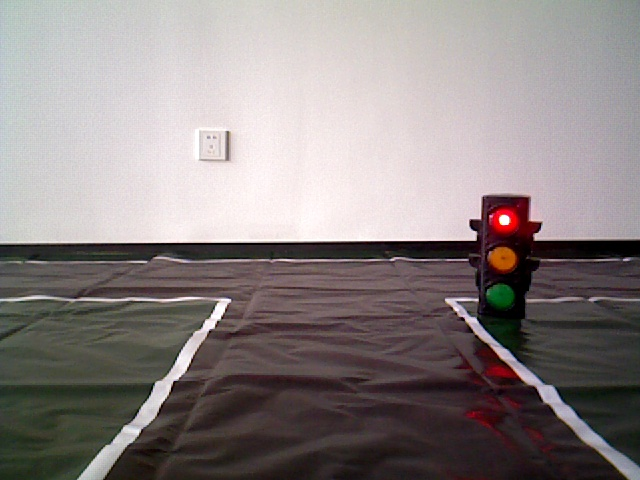red: (482, 197, 525, 316)
